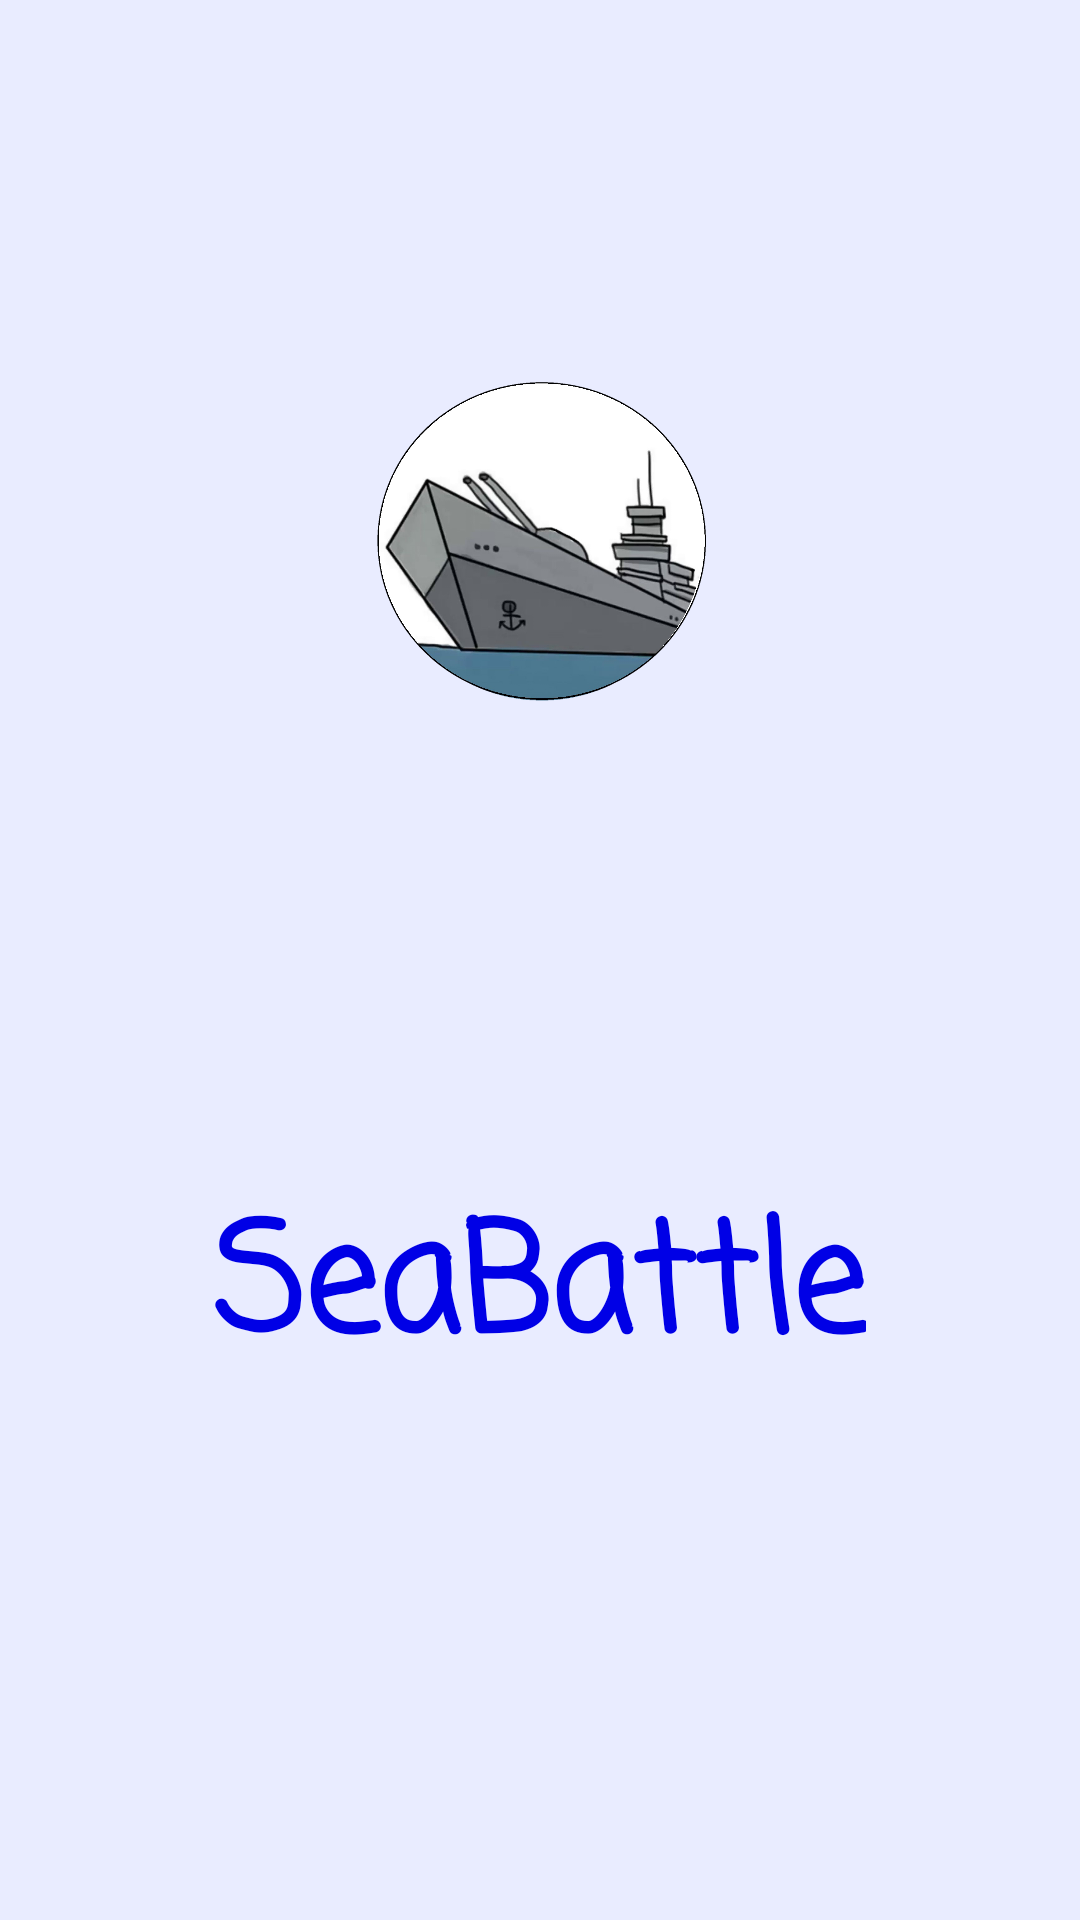

Screen size 1080*1920. Icon name, then its center in pixels as (x,y):
ship photo round: (541,541)
